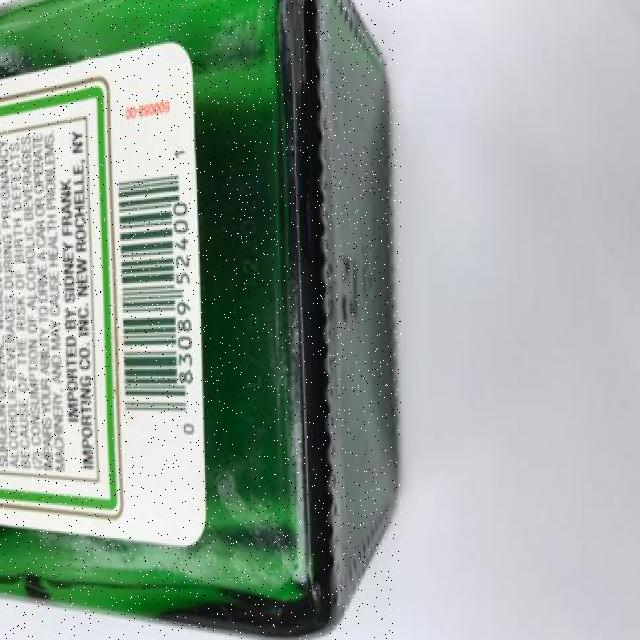glass: (0, 0, 401, 640)
